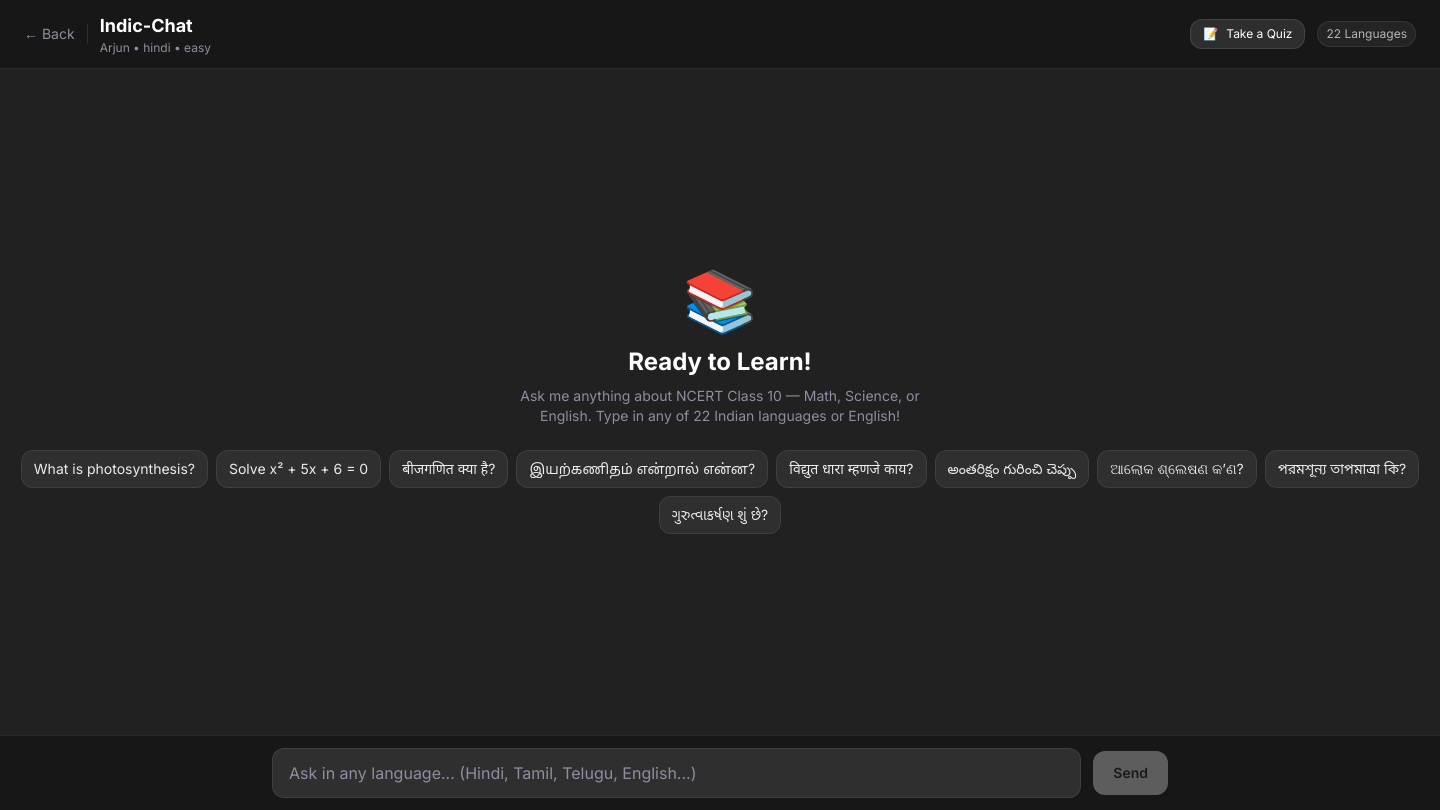
Scenario: ChatPage › handles message submission and staggered streaming
Type "Tell me about gravity" into the field with placeholder "Ask in any language... (Hindi, Tamil, Telugu, English...)" at {"x": 677, "y": 773}, box x1=272 y1=748 x2=1081 y2=798
Then press Enter
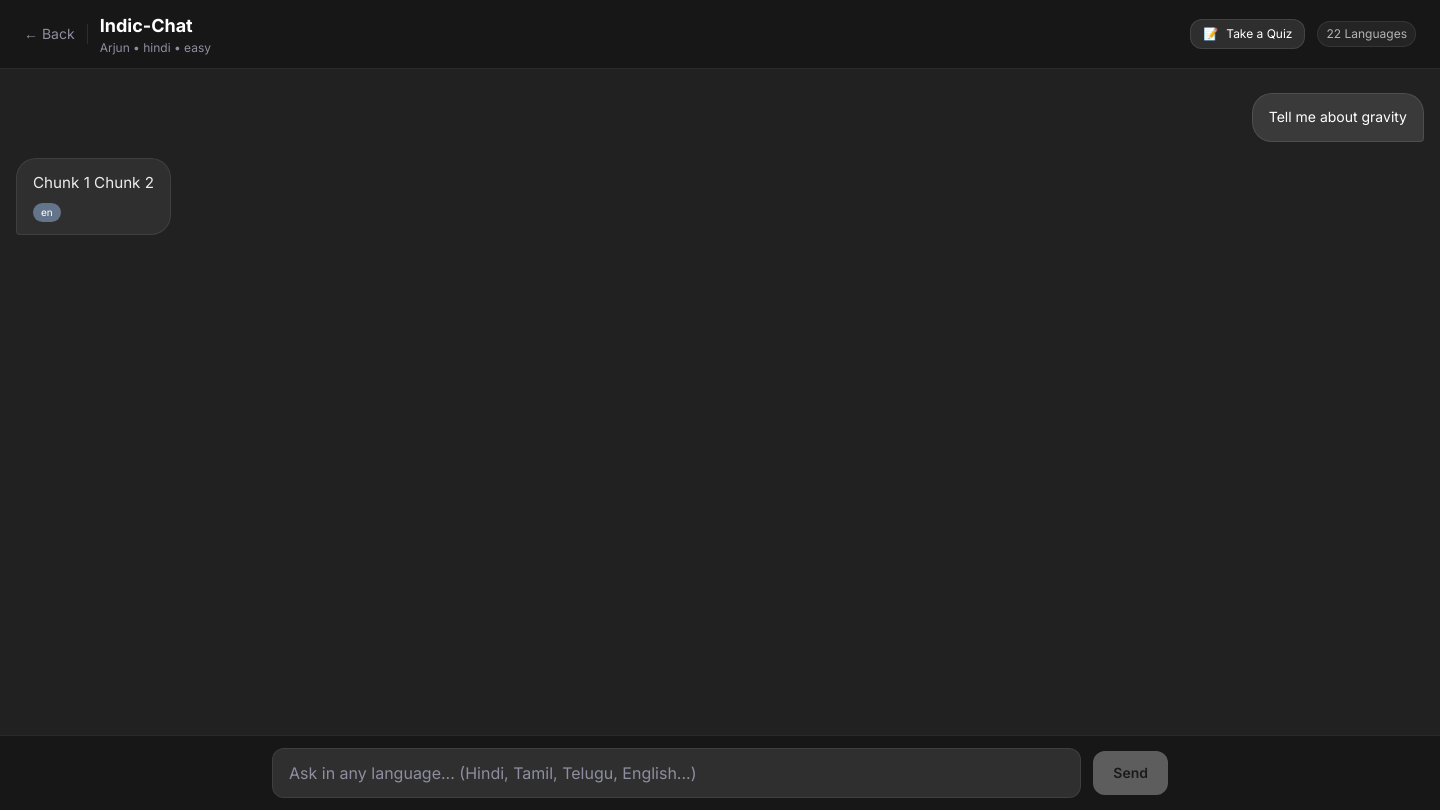
Expected: the text "Tell me about gravity" is shown, x1=1269 y1=106 x2=1407 y2=129
Expected: the text "Chunk 1 Chunk 2" is shown, x1=33 y1=171 x2=154 y2=196
